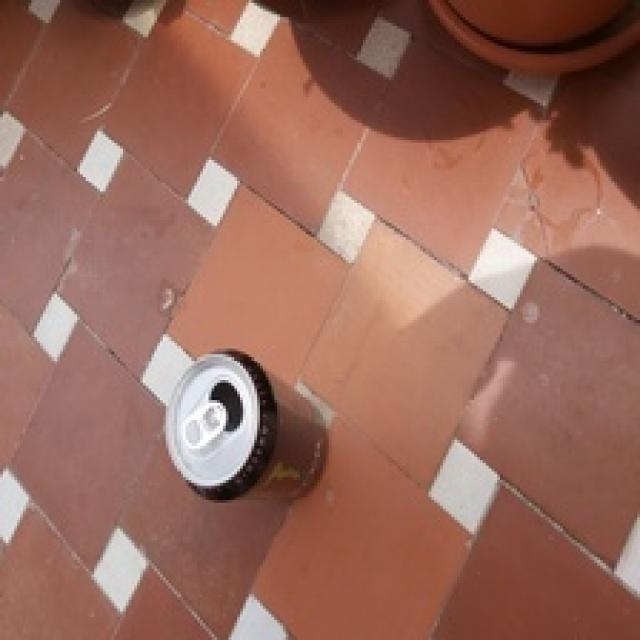recyclable: (164, 348, 326, 506)
